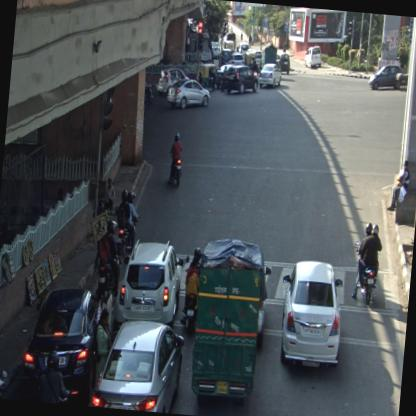car: (18, 282, 102, 406), (89, 316, 186, 414), (274, 259, 346, 376), (110, 237, 185, 328), (166, 77, 212, 113), (226, 64, 258, 98), (368, 63, 404, 93), (156, 66, 190, 97), (256, 62, 283, 91), (304, 44, 324, 69), (274, 52, 292, 76), (210, 41, 221, 59)
motorcycle: (350, 222, 384, 308), (95, 219, 123, 307), (180, 244, 204, 337), (115, 188, 142, 262), (167, 132, 185, 186), (0, 343, 11, 399), (218, 66, 230, 93)
truck: (187, 236, 266, 410), (260, 43, 276, 68)
